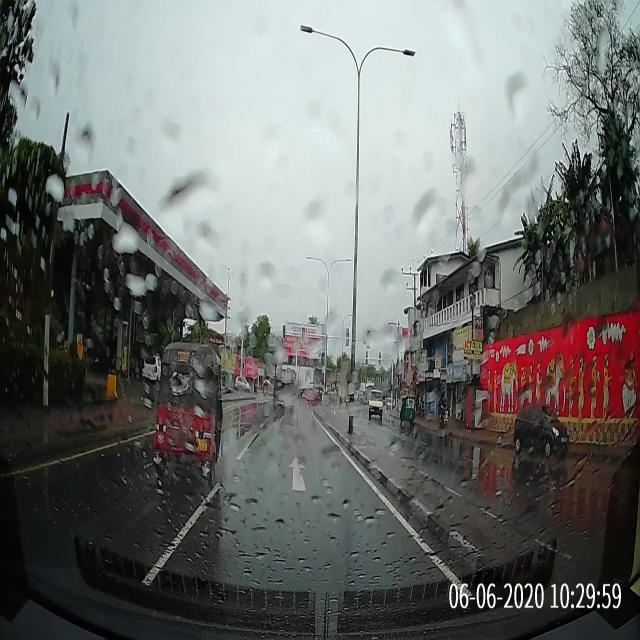Strelka vpered: (287, 456, 307, 492)
